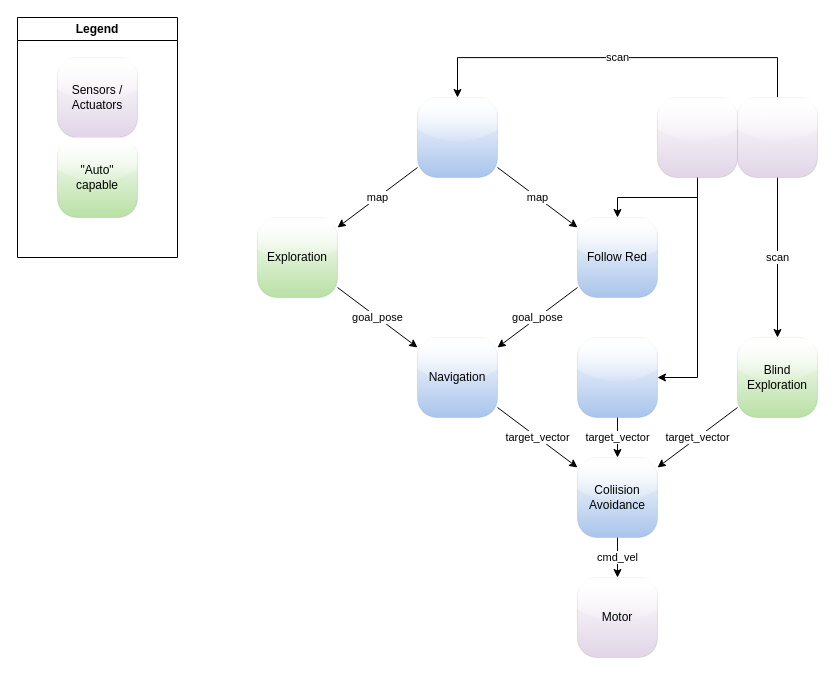
Some shapes in this 835 by 675 pixel diagram are drawn without their labels. Here are the shapes that lost their labels. From the top down, the centre of each, then its label:
point (457, 137): SLAM
point (697, 137): Camera
point (777, 137): LIDAR
point (617, 377): Blind Follow Red
